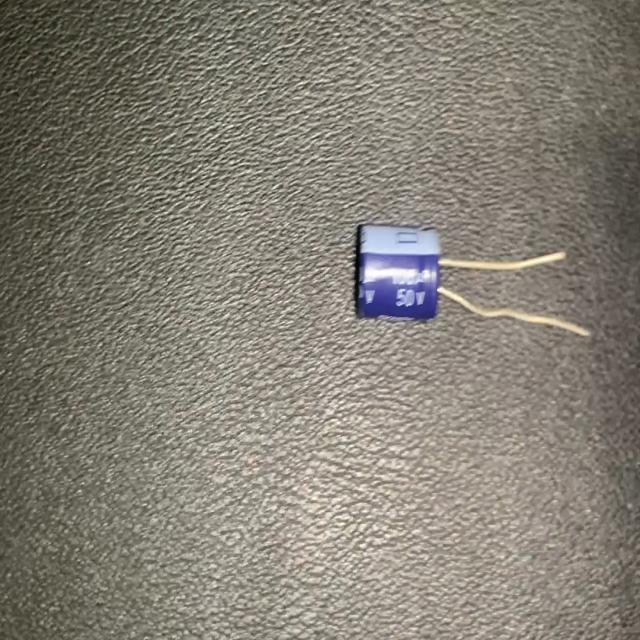capacitor: (352, 217, 591, 340)
